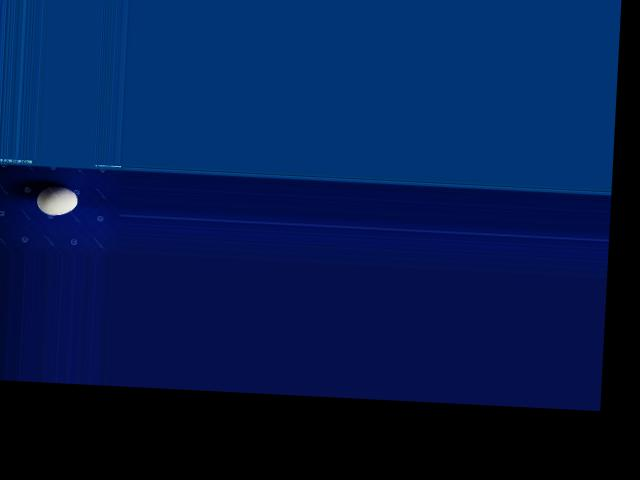egg: (36, 184, 79, 215)
